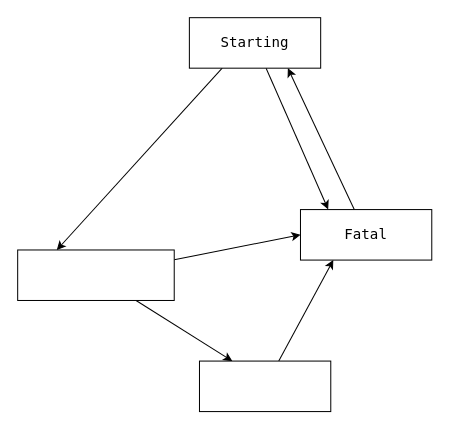
The diagram is 449 pixels wide and 429 high, and some of its shapes have lost their labels. The centre of each missing label's shape, as x and y in pixels:
Running: point 95,274
Stopped: point 264,386
